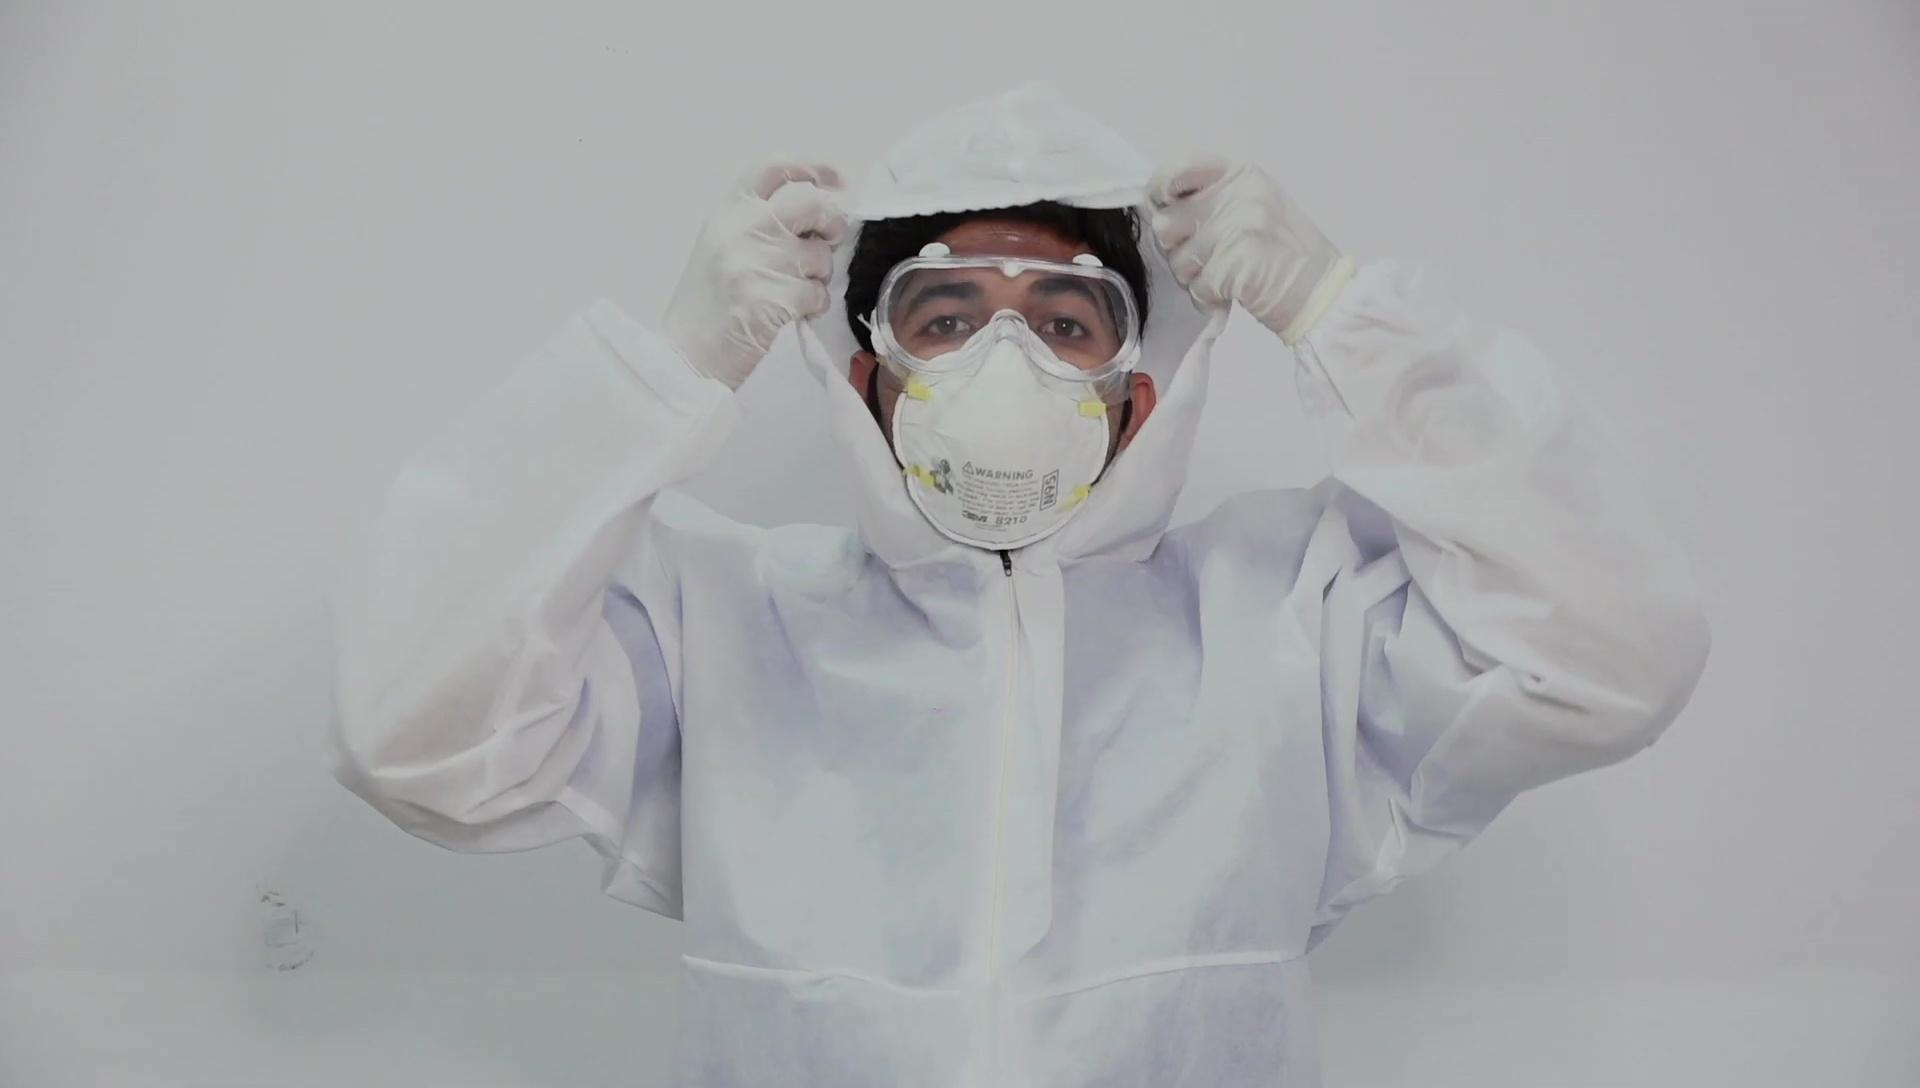Gloves: (654, 156, 849, 393), (1146, 152, 1349, 346)
Goggles: (868, 239, 1146, 404)
